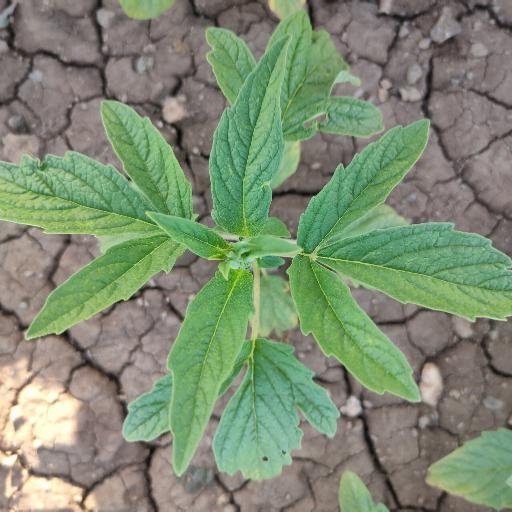crop: (1, 32, 512, 466)
